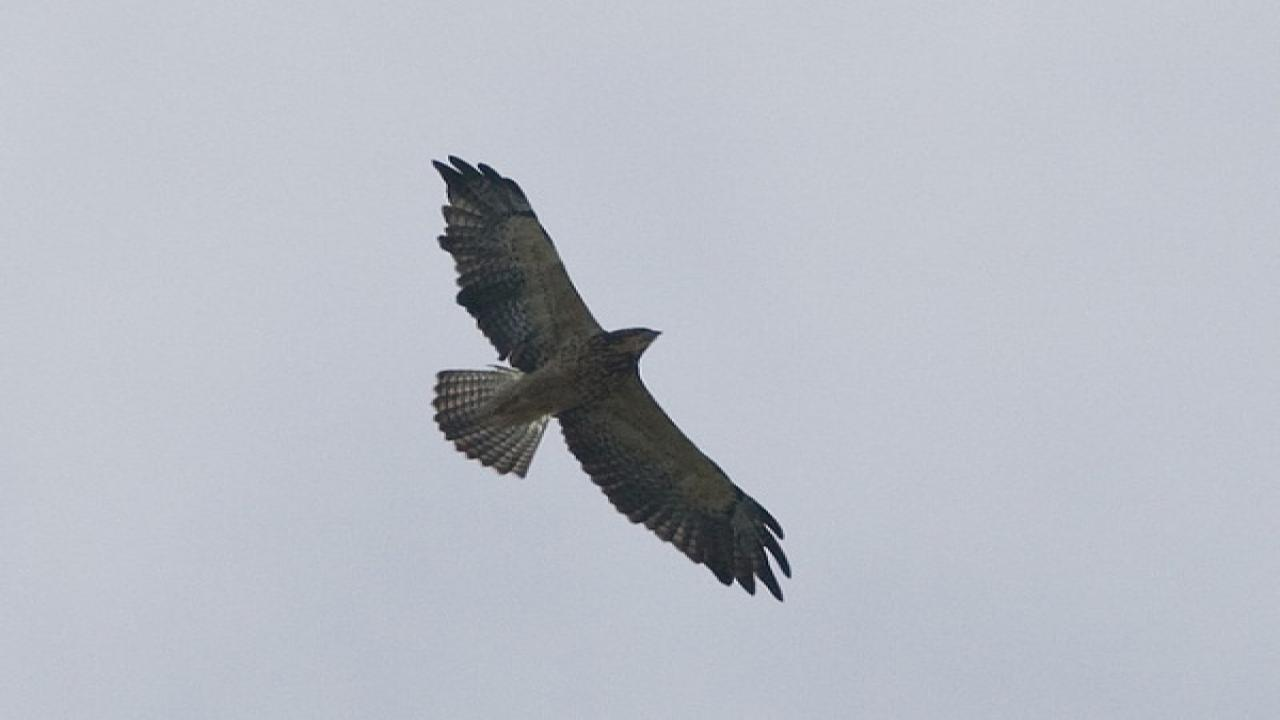Bird: (396, 146, 811, 610)
